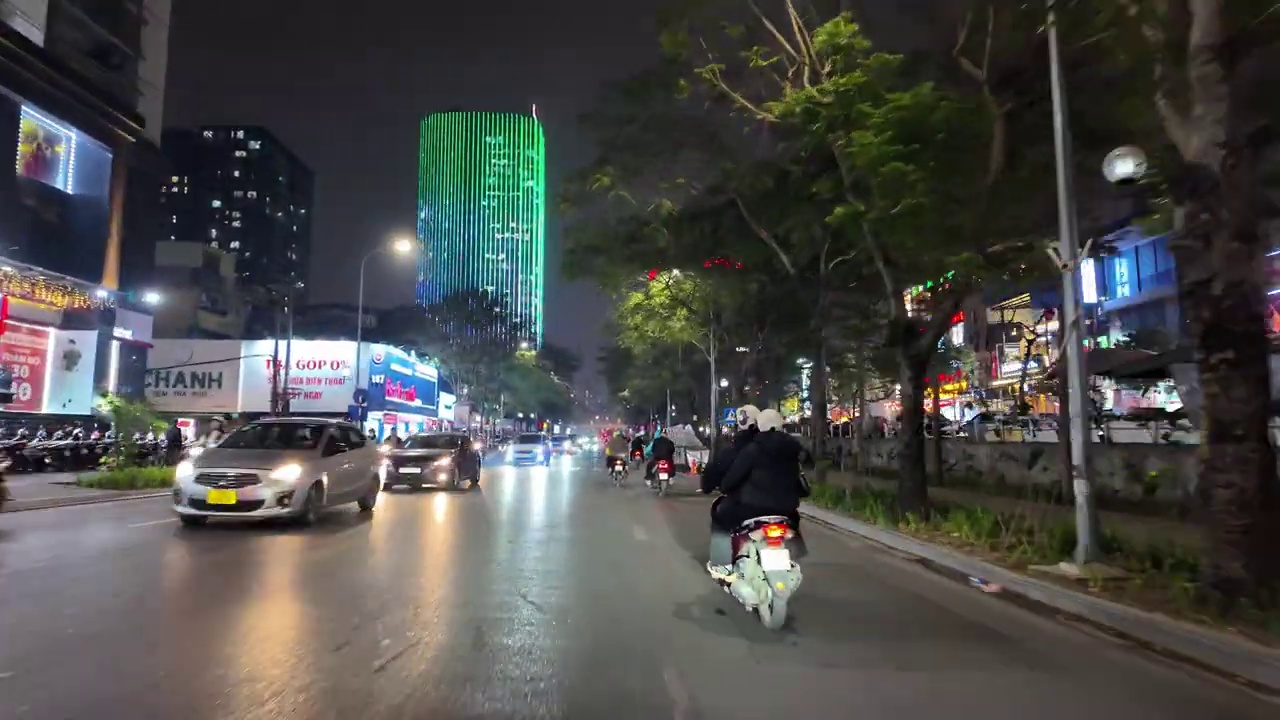acesa: (386, 231, 417, 261)
